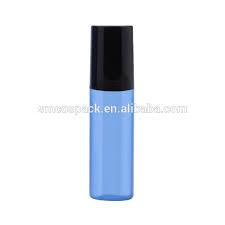Container for household chemicals: (75, 9, 149, 214)
